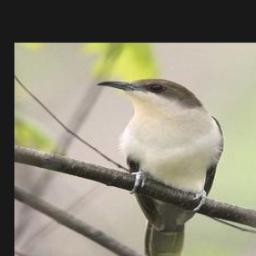Cuckoo: (95, 77, 225, 256)
